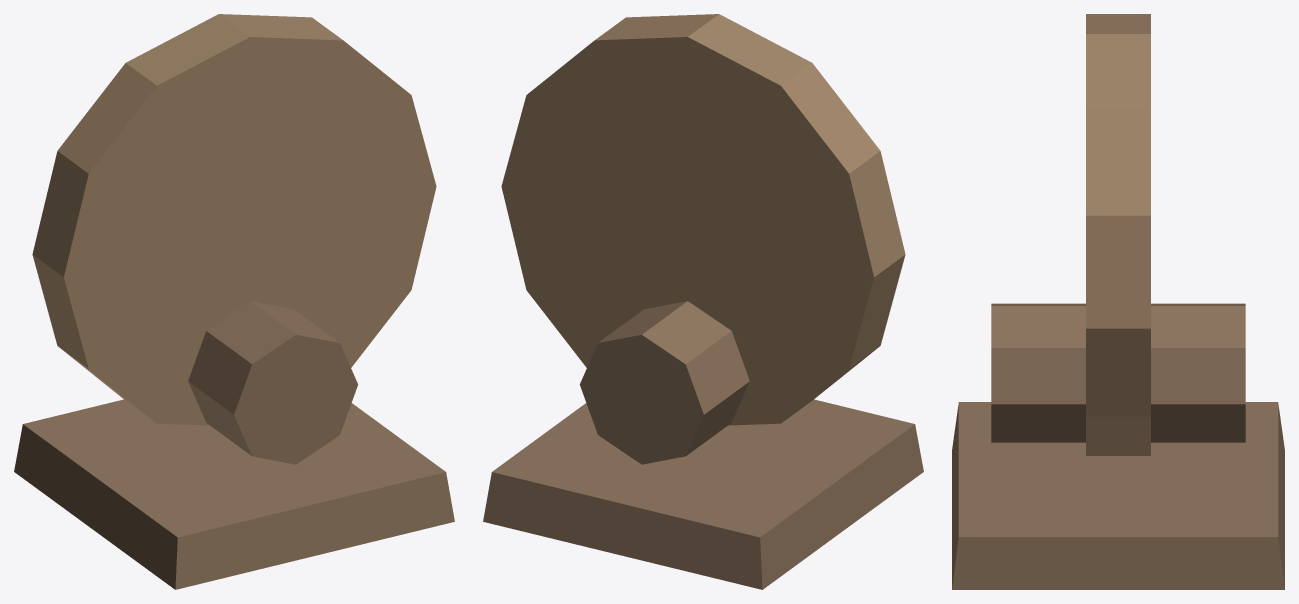
The model's file is table_round.glb.
The picture shows the model from 3 angles, left to right: view 1: azimuth 30°, elevation 25°; view 2: azimuth 150°, elevation 25°; view 3: azimuth 270°, elevation 25°; orthographic projection. The views are drawn at different scales.
Parts seen in each view (by area): view 1: part_0, part_2, part_1; view 2: part_0, part_2, part_1; view 3: part_2, part_0, part_1.
Boxes of the visible parts, <box> form: part_0: <box>32,14,436,425</box>; part_2: <box>14,399,454,589</box>; part_1: <box>188,301,358,464</box>; part_0: <box>501,14,905,425</box>; part_2: <box>483,399,923,589</box>; part_1: <box>579,301,749,464</box>; part_2: <box>952,402,1284,589</box>; part_0: <box>1086,14,1150,455</box>; part_1: <box>991,303,1245,442</box>.
Size of the model in its own units: 0.96 by 1.16 by 0.72.
